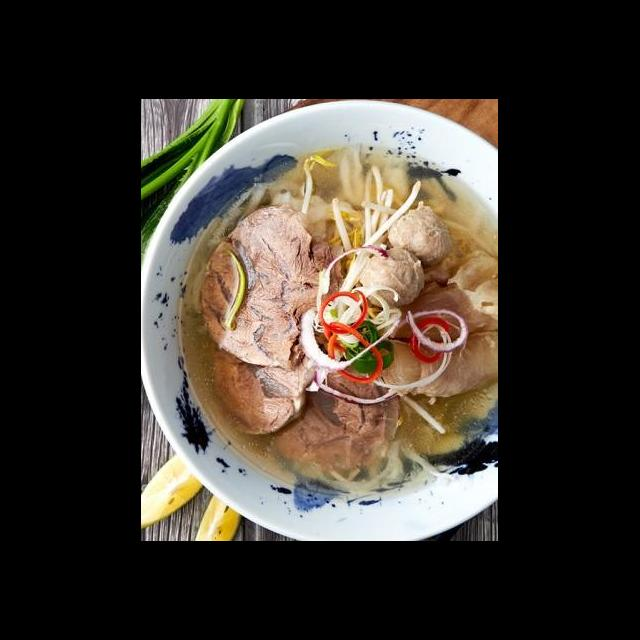thit bo: (193, 200, 344, 371), (268, 359, 402, 475), (194, 320, 320, 440), (374, 253, 498, 350), (372, 323, 498, 406)
